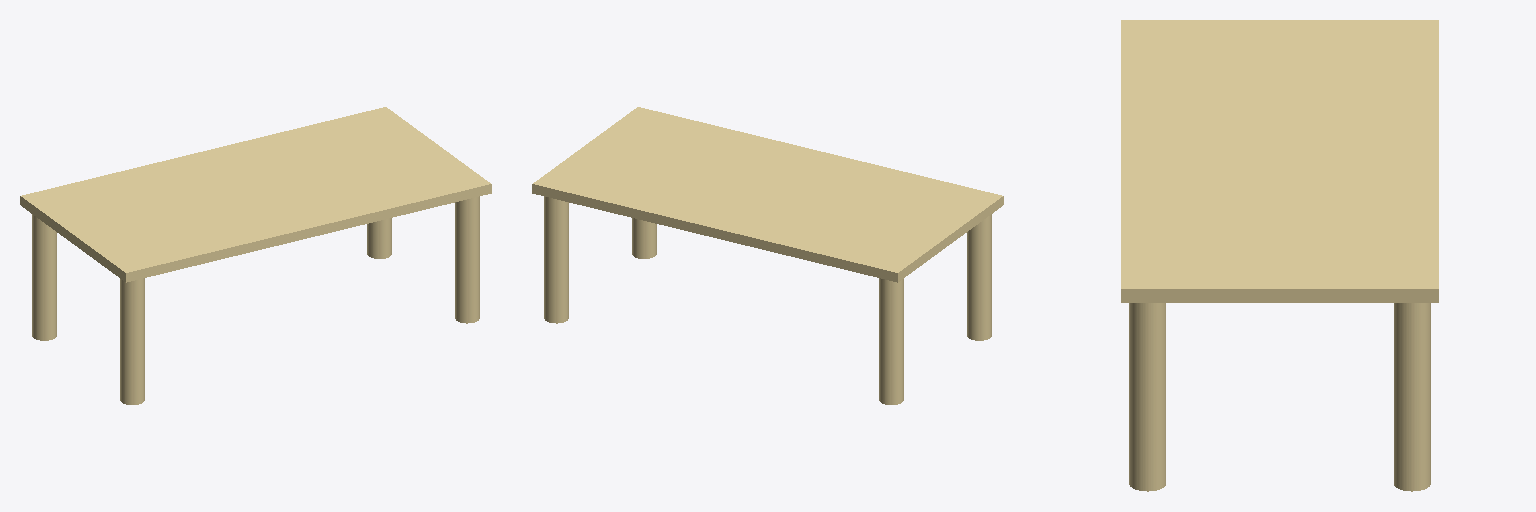
URDF robot description (table):
<?xml version="1.0" ?>
<!-- Generated using onshape-to-robot -->
<!-- Onshape https://cad.onshape.com/documents/2841c863e1643adb31d518f0/w/0586fea10f870d05584cd378/e/b6f189cbf60e2aec063d13c4 -->
<robot name="table">
  <!-- Link table -->
  <link name="table">
    <inertial>
      <origin xyz="-3.51538e-17 -3.69578e-17 -0.032694" rpy="0 0 0"/>
      <mass value="21.3733"/>
      <inertia ixx="1.03176" ixy="-5.13946e-16" ixz="0" iyy="3.66655" iyz="0" izz="4.22828"/>
    </inertial>
    <!-- Part table -->
    <visual>
      <origin xyz="0 0 0" rpy="0 -0 0"/>
      <geometry>
        <mesh filename="package://assets/table.stl"/>
      </geometry>
      <material name="table_material">
        <color rgba="0.941176 0.87451 0.678431 1"/>
      </material>
    </visual>
    <collision>
      <origin xyz="0 0 0" rpy="0 -0 0"/>
      <geometry>
        <mesh filename="package://assets/table.stl"/>
      </geometry>
    </collision>
  </link>
</robot>

--- Facts derived from the render (not from the file) ---
3 views of the same robot in one strip: view 1: azimuth 30°, elevation 25°; view 2: azimuth 150°, elevation 25°; view 3: azimuth 270°, elevation 25° (orthographic).
Robot: table — 1 links, 0 joints (none); root link table; default pose: all joints at 0.
Visible links, largest first — view 1: table; view 2: table; view 3: table.
Link boxes in pixels (bbox=[...]): table: bbox=[20, 107, 491, 404]; table: bbox=[532, 107, 1003, 404]; table: bbox=[1121, 20, 1438, 491].
Bounding box of the posed robot: 1.2 × 0.6 × 0.43 m (x, y, z).
Meshes: 1 distinct files referenced, 1 mesh visuals loaded (1 binary STL).